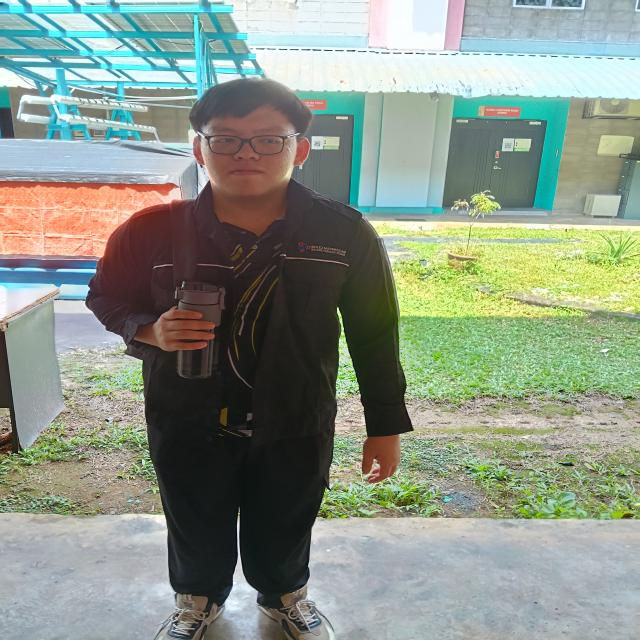person_with_labcoat: (87, 79, 412, 640)
